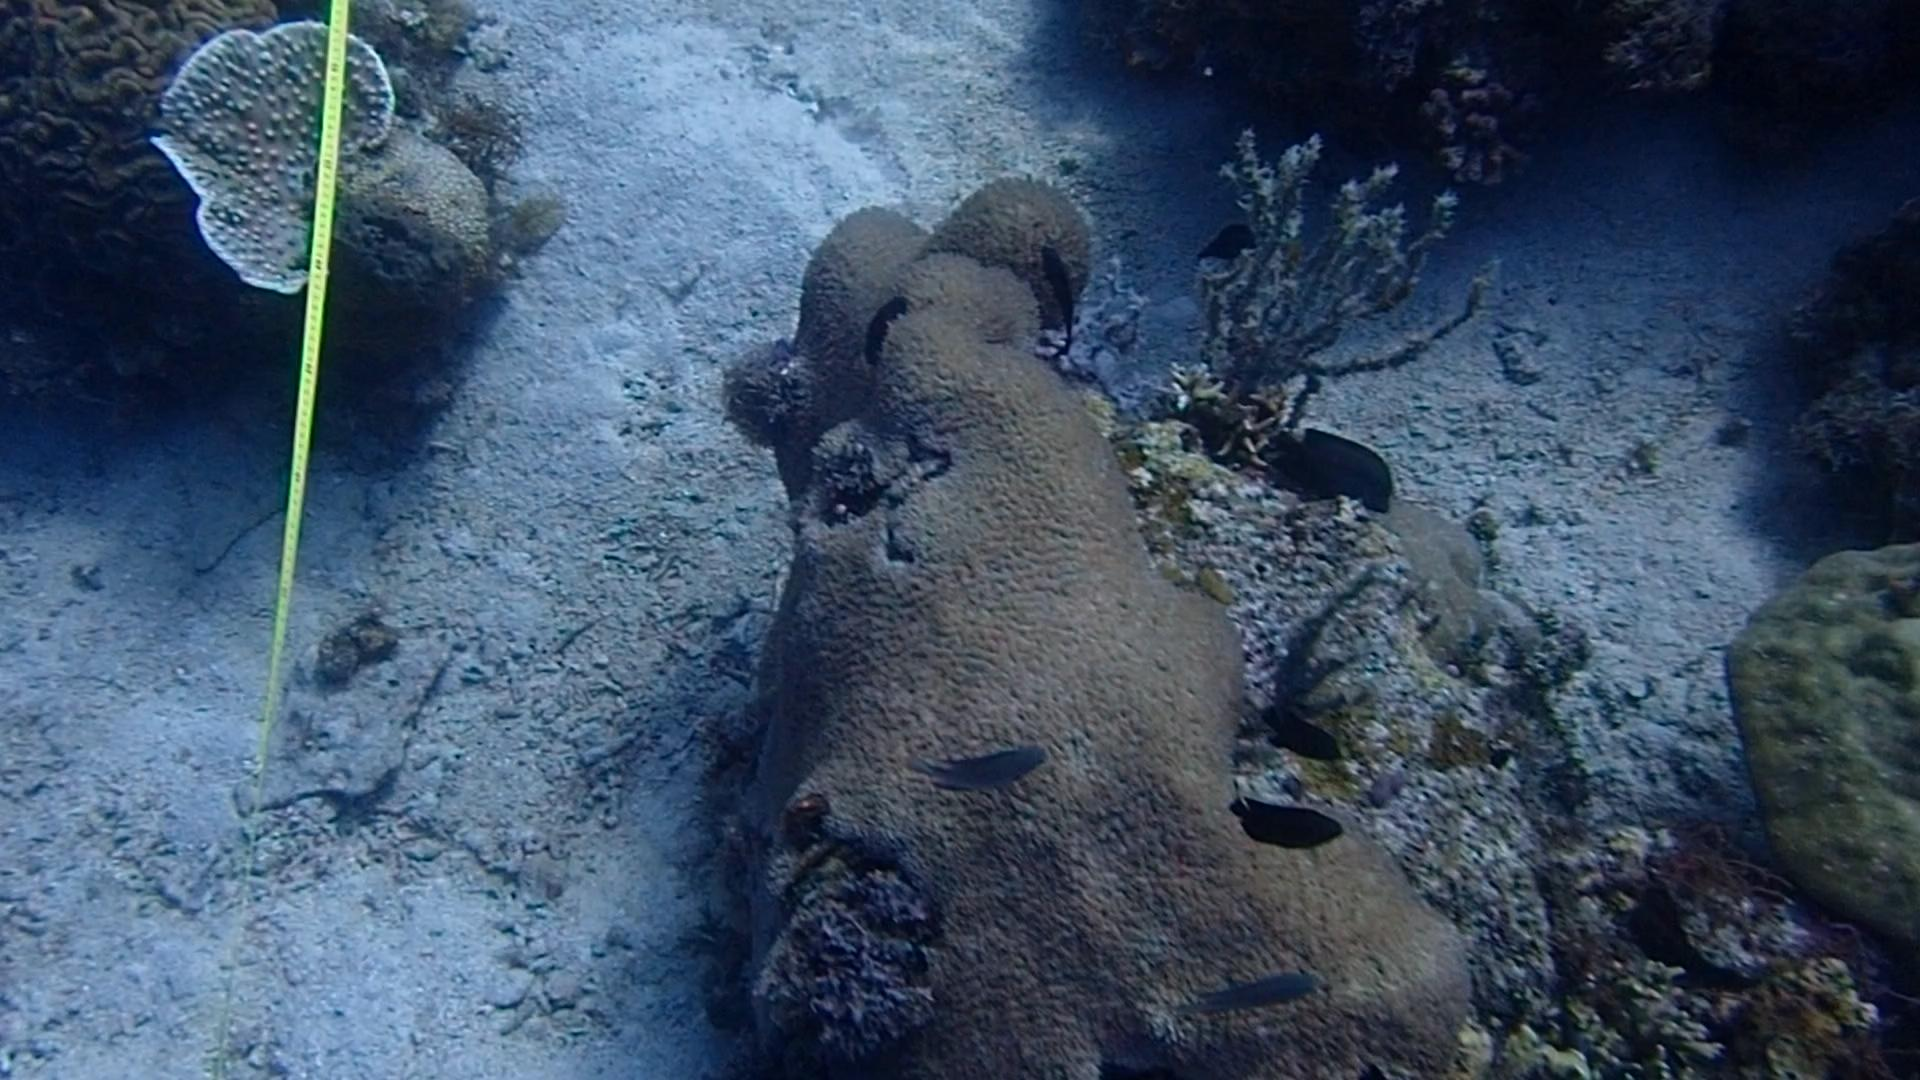Big Dark Blue Fish: (1271, 425, 1400, 513)
Dark Fish: (1211, 789, 1361, 856), (1254, 692, 1357, 781), (848, 284, 924, 360), (1185, 206, 1275, 270), (1029, 237, 1100, 315)
Light Fish: (1185, 948, 1325, 1035), (931, 732, 1062, 799)
